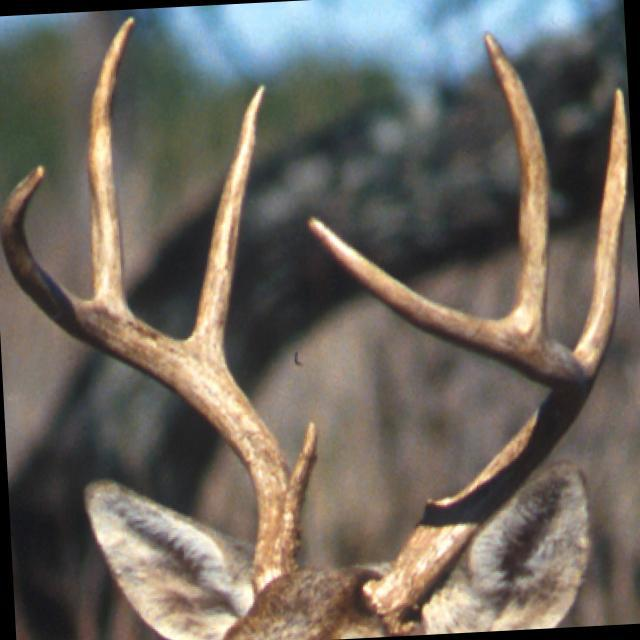L-F: (306, 216, 590, 635)
L-G1: (574, 86, 629, 388)
L-G2: (482, 29, 550, 331)
R-F: (0, 164, 301, 594)
R-G1: (188, 84, 268, 365), (289, 420, 318, 509)
R-G3: (88, 15, 136, 308)
